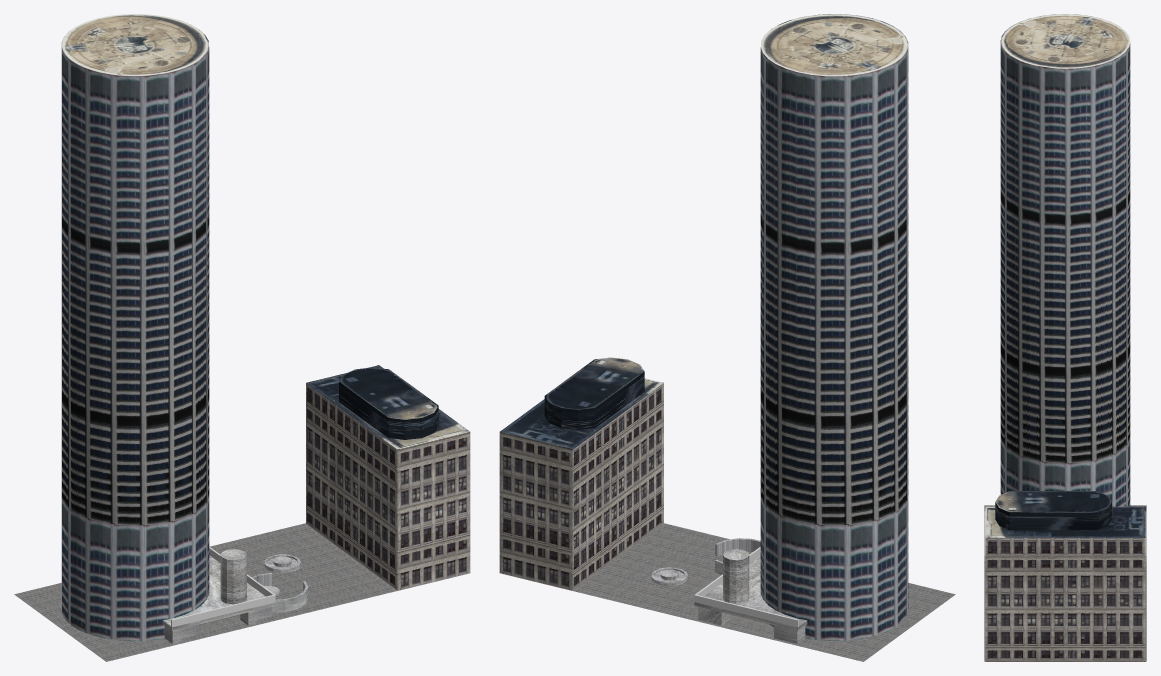
The model's file is australiaSquare.fbx.
3 renders of one model, left to right at view 1: azimuth 30°, elevation 25°; view 2: azimuth 150°, elevation 25°; view 3: azimuth 270°, elevation 25°, orthographic. The views are drawn at different scales.
Visible parts, largest first — view 1: Cylinder, Cube, Plane, Cube.001, Cylinder.001, Cube.002; view 2: Cylinder, Cube, Plane, Cube.001, Cylinder.001, Cube.002; view 3: Cylinder, Cube, Plane.
Part boxes in pixels (bbox=[...]): Cylinder: bbox=[61, 14, 209, 640]; Cube: bbox=[306, 365, 470, 590]; Plane: bbox=[14, 523, 470, 661]; Cube.001: bbox=[162, 549, 275, 643]; Cylinder.001: bbox=[251, 554, 308, 612]; Cube.002: bbox=[171, 547, 275, 627]; Cylinder: bbox=[760, 14, 908, 640]; Cube: bbox=[499, 357, 663, 590]; Plane: bbox=[499, 523, 955, 661]; Cube.001: bbox=[694, 549, 807, 643]; Cylinder.001: bbox=[651, 538, 760, 585]; Cube.002: bbox=[694, 547, 798, 627]; Cylinder: bbox=[1000, 14, 1130, 506]; Cube: bbox=[985, 491, 1145, 661]; Plane: bbox=[984, 505, 1146, 661].
Bounding box in the file's own units: 22800 × 34000 × 10000.
Materials: 6 (6 with a texture image).
